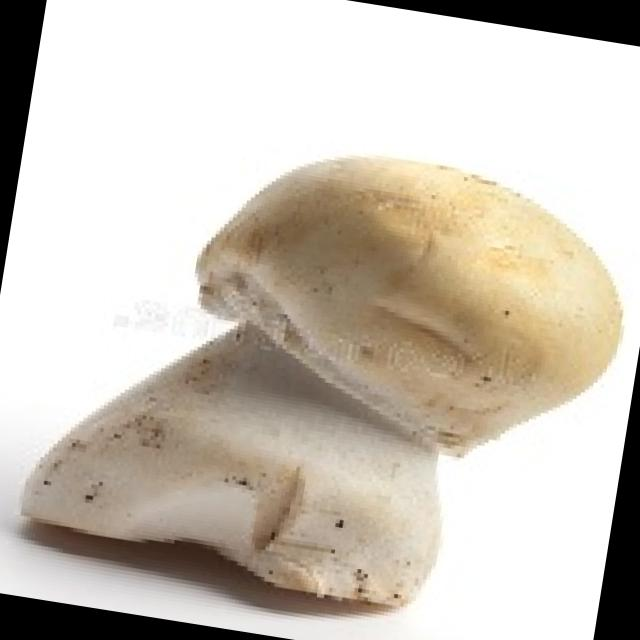mushroom: (8, 108, 640, 640)
